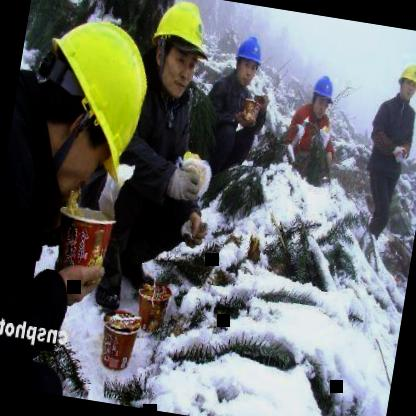helmet: (17, 13, 158, 202), (141, 0, 216, 98), (230, 31, 268, 89), (305, 68, 339, 123), (393, 55, 416, 103)
